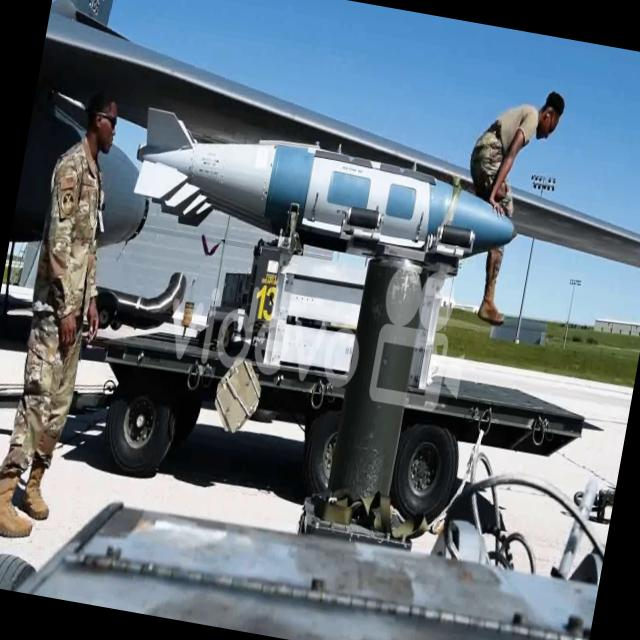rocket: (129, 93, 528, 275)
